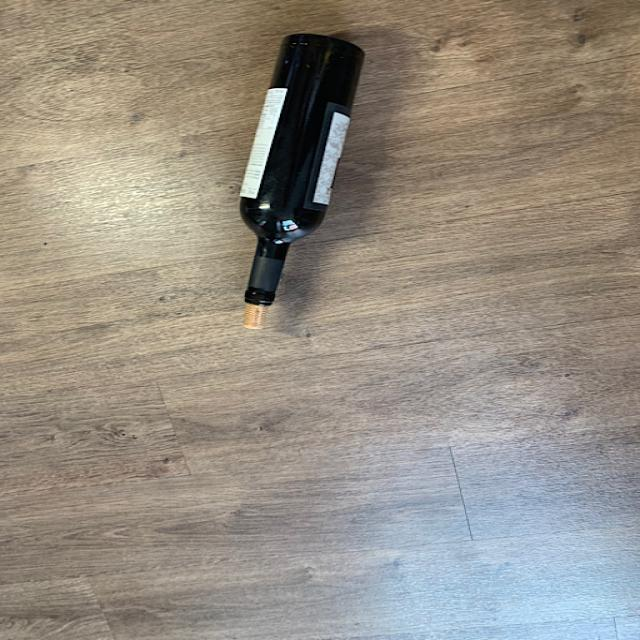litter: (236, 33, 365, 306)
